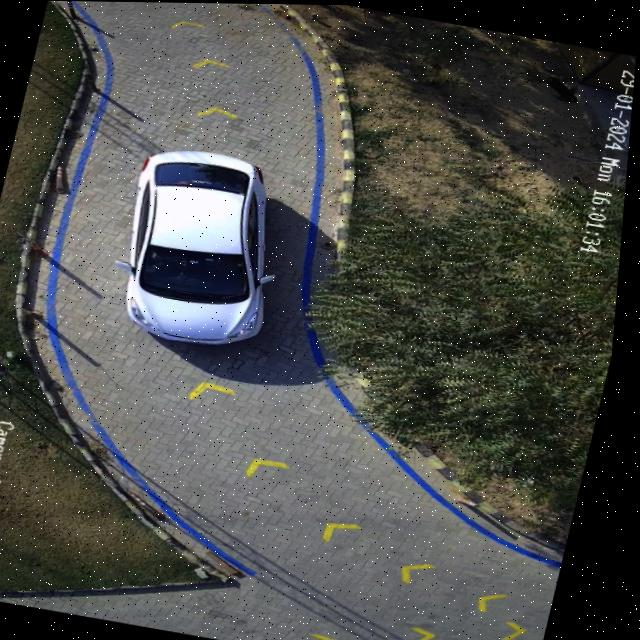car: (129, 150, 276, 344)
